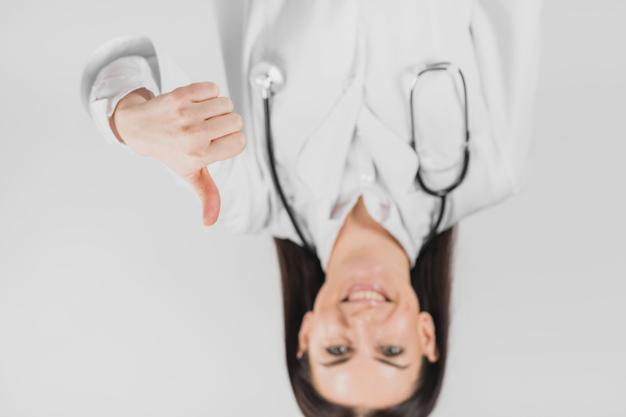thumbsdown: (166, 80, 248, 229)
